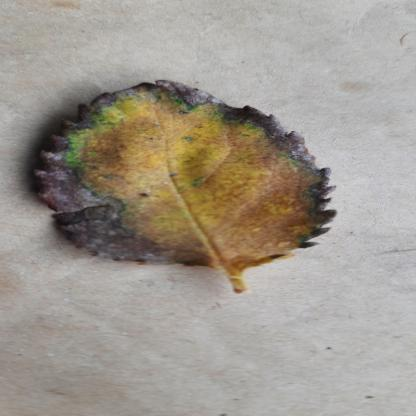black-spot: (19, 77, 349, 273)
